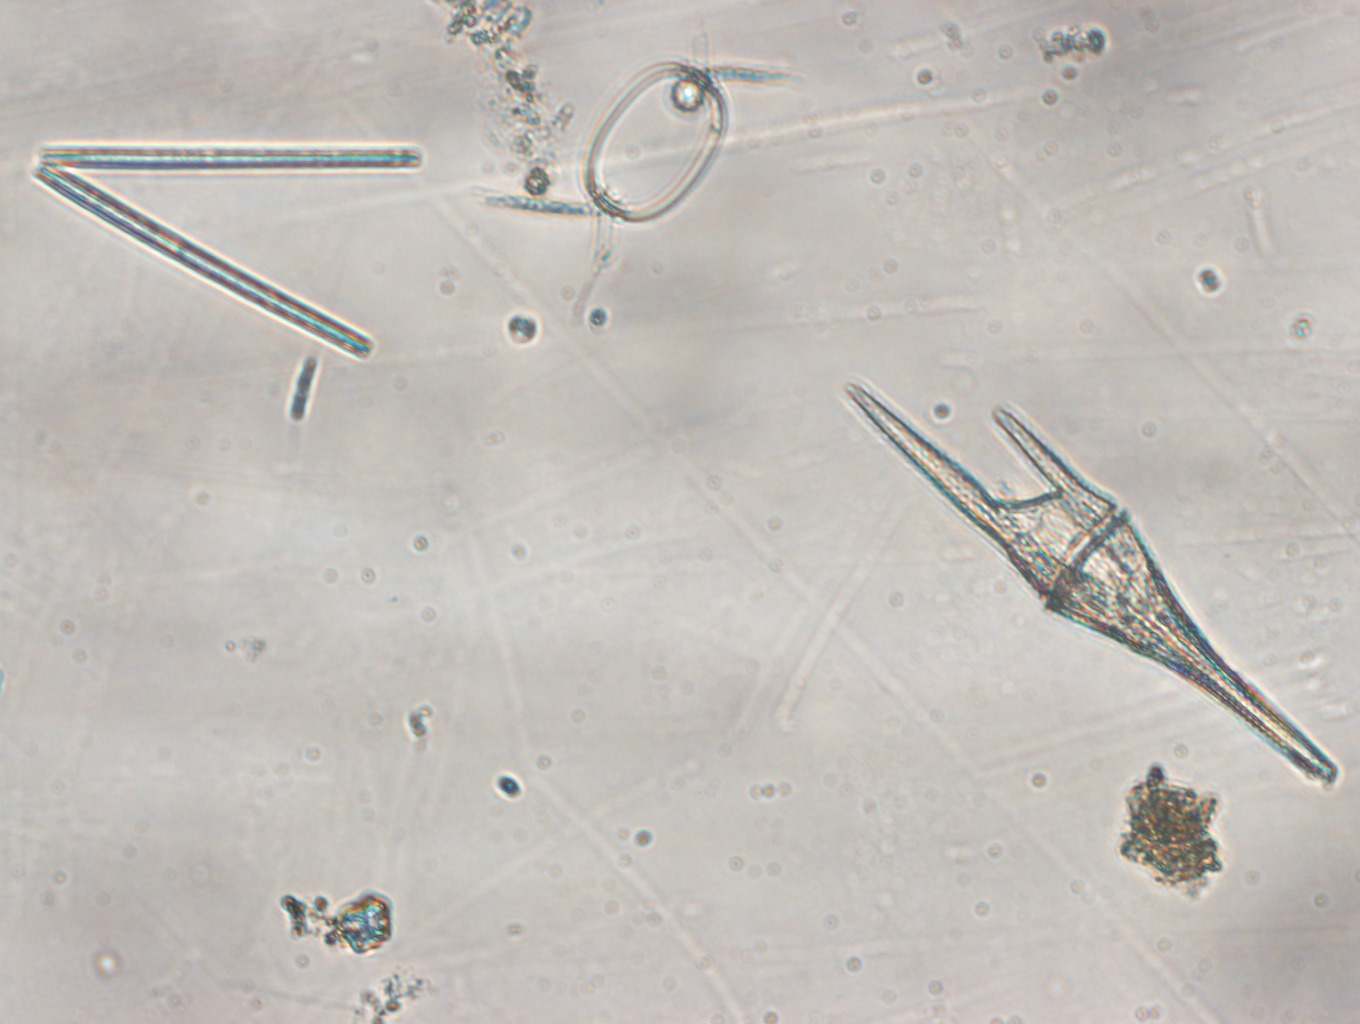ceratium furca: (841, 378, 1343, 790)
chaetoceros: (462, 22, 807, 327)
thalassionema nitzschioides: (27, 139, 424, 364)
